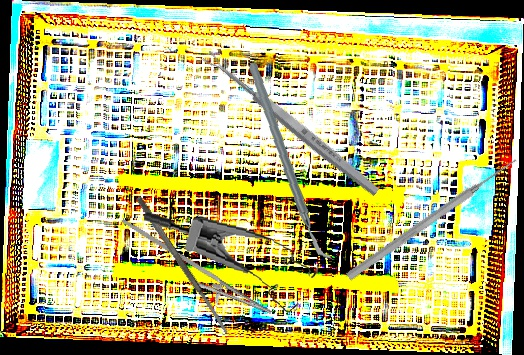Chopper: (235, 62, 346, 263)
Needle Holder: (106, 218, 282, 327)
Pusher: (344, 154, 521, 283)
Spatula Surgical: (134, 195, 232, 337)
Speculum: (135, 209, 324, 317)
Surgical Spoon: (201, 48, 382, 199)
